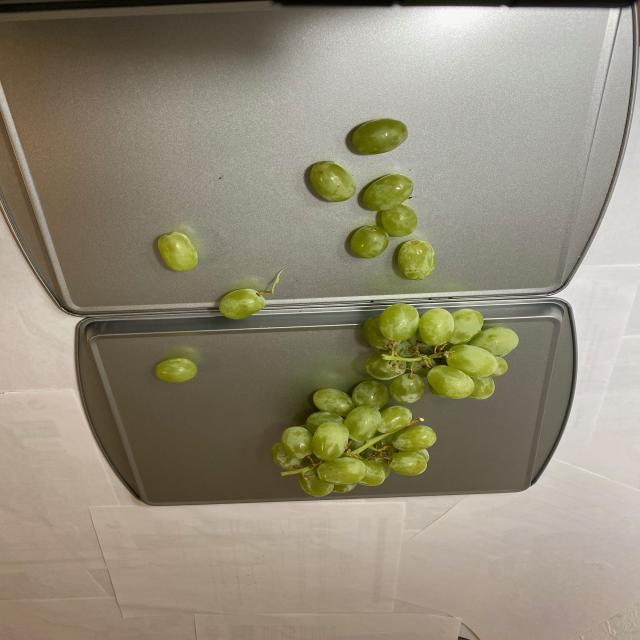grapes: (272, 306, 518, 497), (310, 118, 436, 280), (150, 232, 266, 385)
